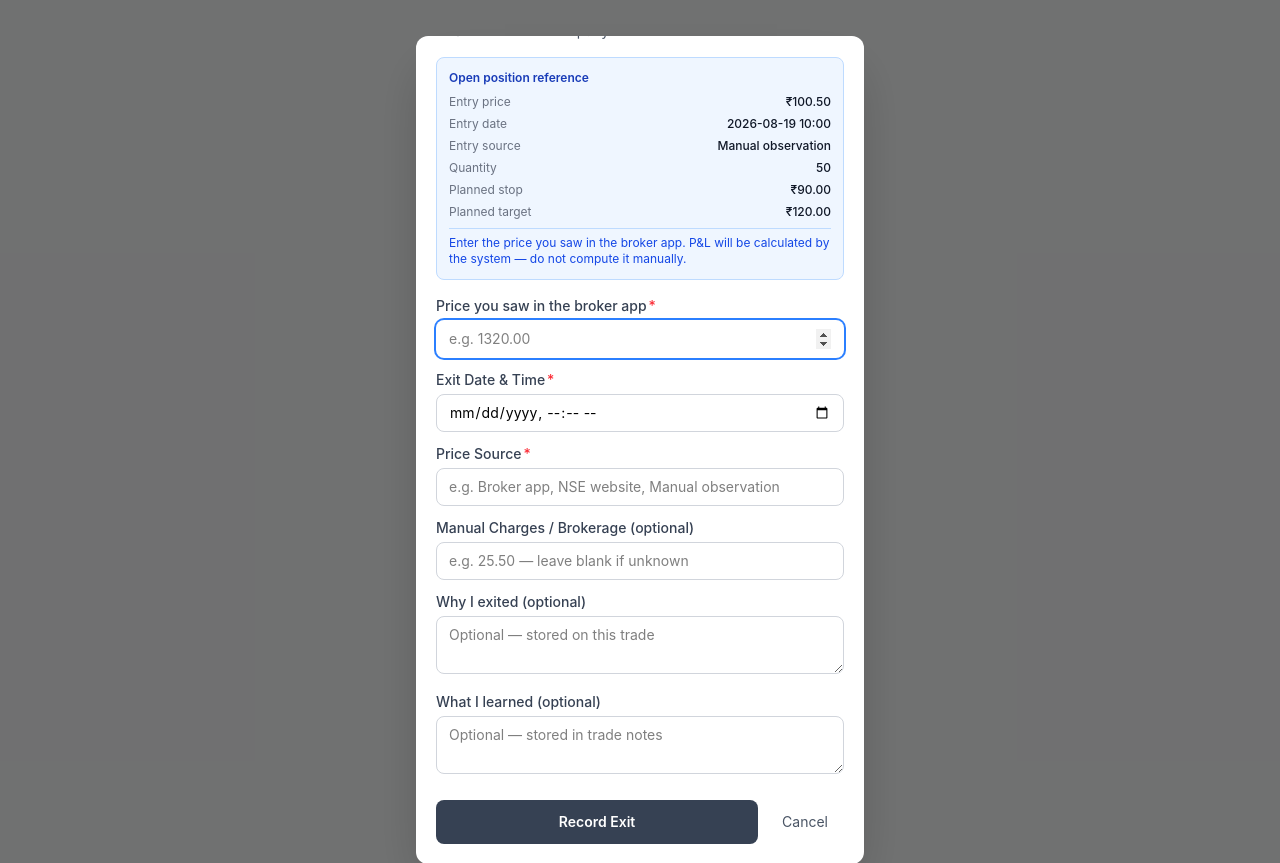
Test case: CloseTradeModal › shows validation error when exit price is missing
(page scrolled)
Click the button with id "close-trade-submit".
click(597, 822)  # box x1=436 y1=800 x2=758 y2=844
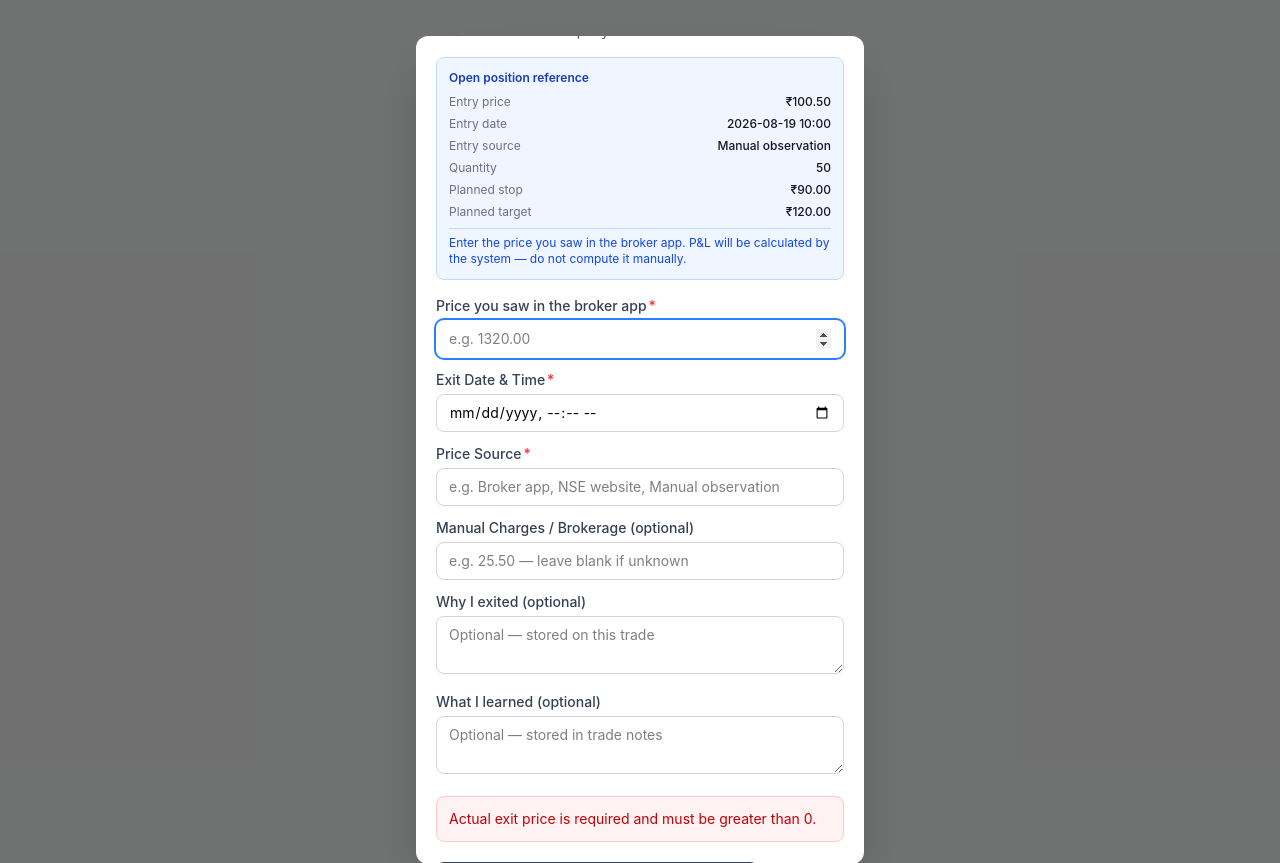
Expected: the text "Actual exit price is required and must be greater than 0." is shown, x1=436 y1=796 x2=844 y2=842
